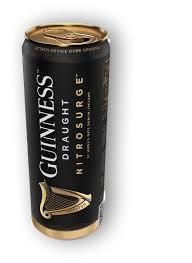metal: (22, 24, 109, 238)
